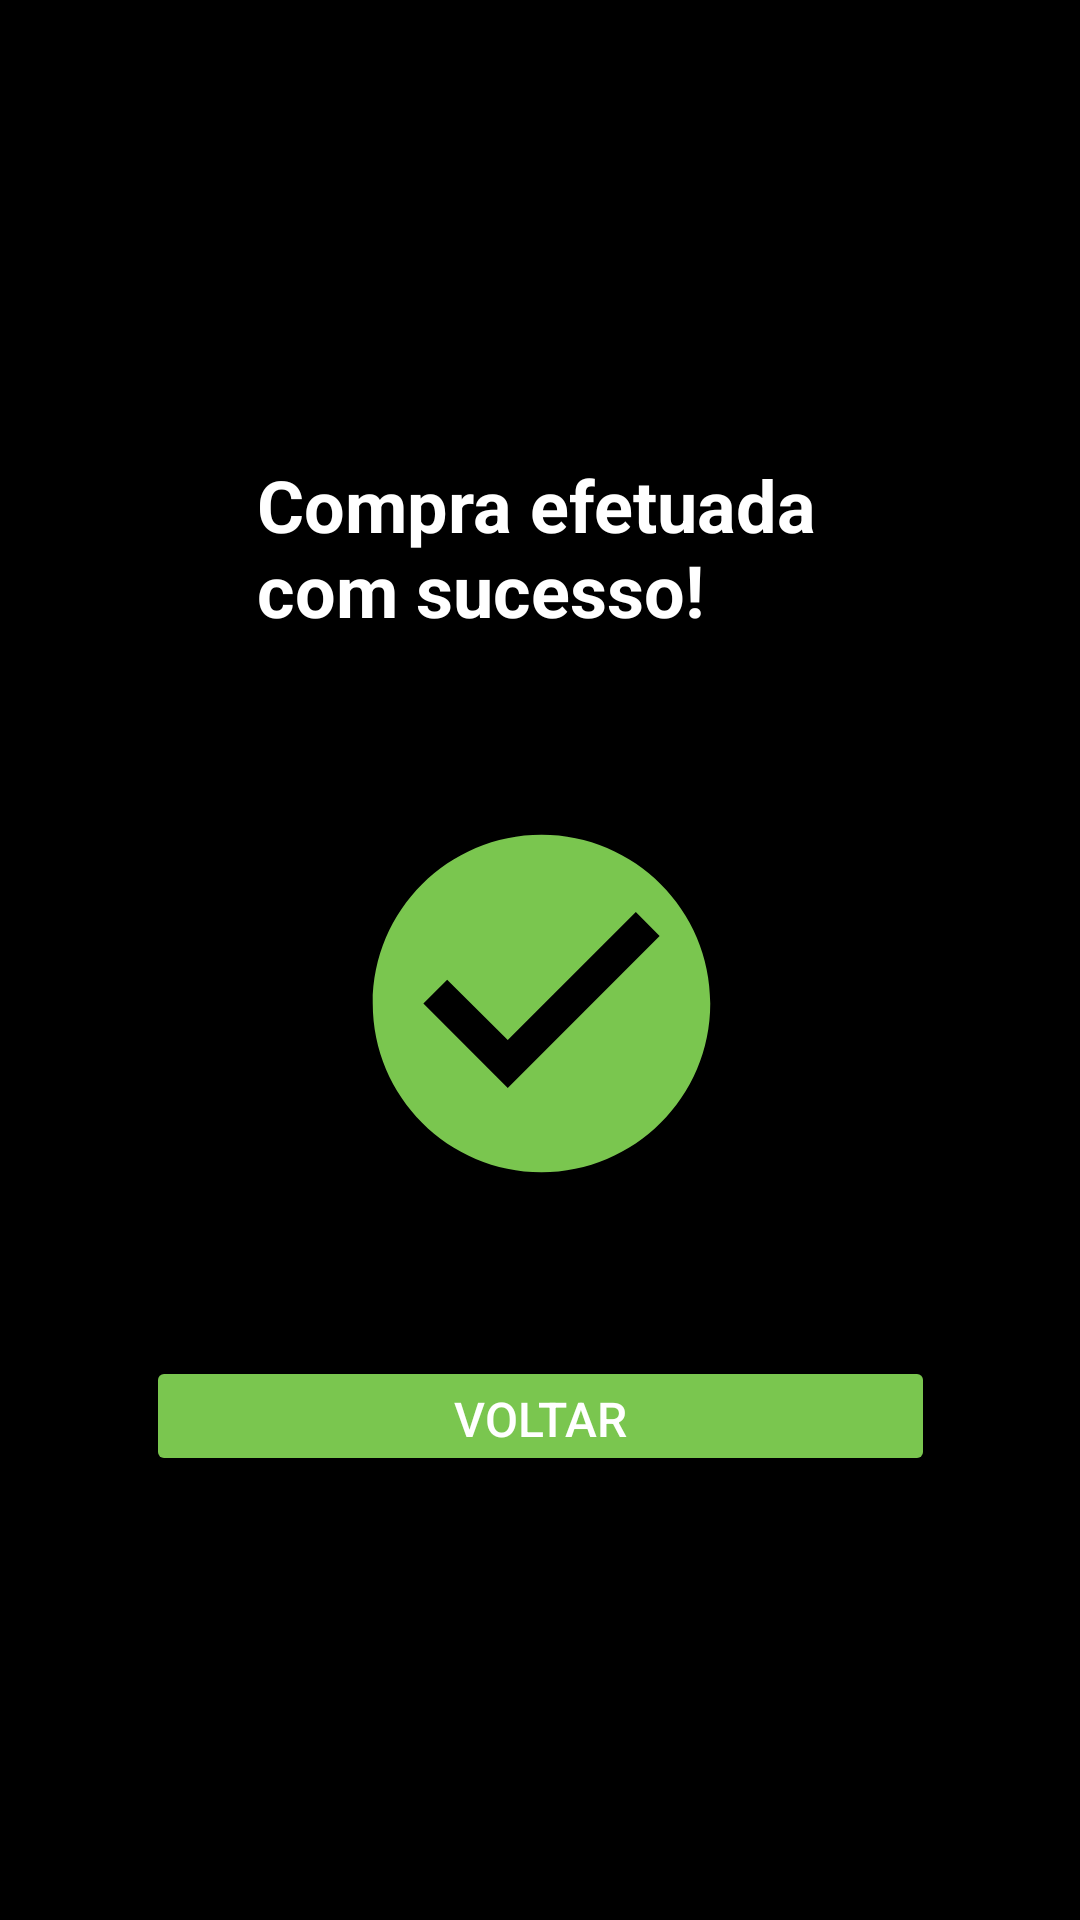

Icons on this 1080×1920 Android screen, each with its box as (x1, y1, x2, y2):
finishconfirm: (372, 834, 711, 1173)
